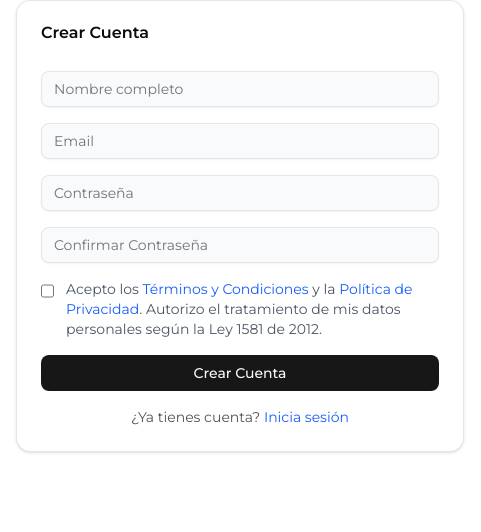
Scenario: RegisterPage › should handle registration error
// Fill out and submit the form
Type "Test User" into the field with placeholder "Nombre completo" at [240, 89], box [41,71,439,107]
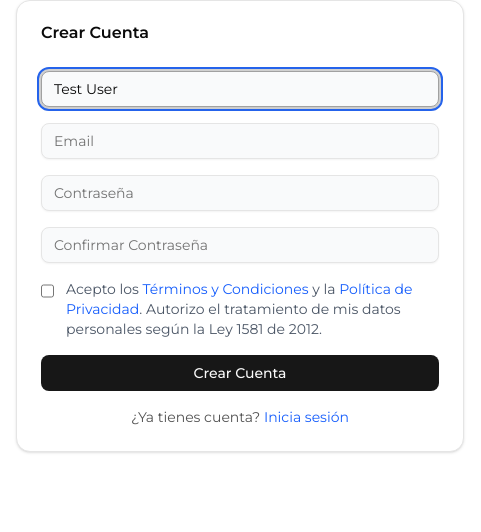
Type "test@example.com" into the field with placeholder "Email" at [240, 141], box [41,123,439,159]
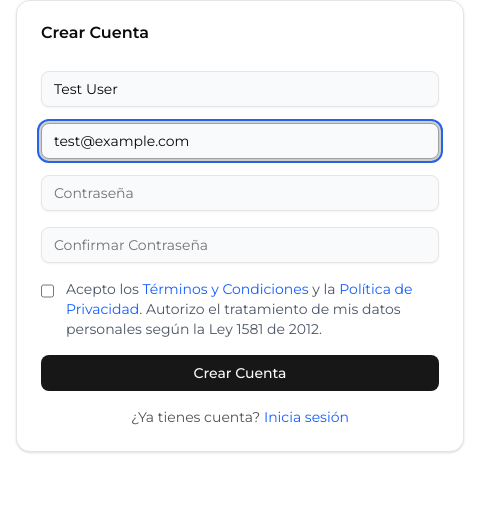
Type "password123" into the password field with placeholder "Contraseña" at [240, 193], box [41,175,439,211]
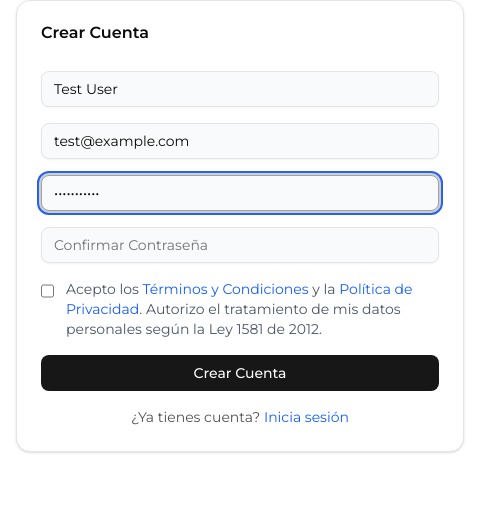
Type "password123" into the password field with placeholder "Confirmar Contraseña" at [240, 245], box [41,227,439,263]
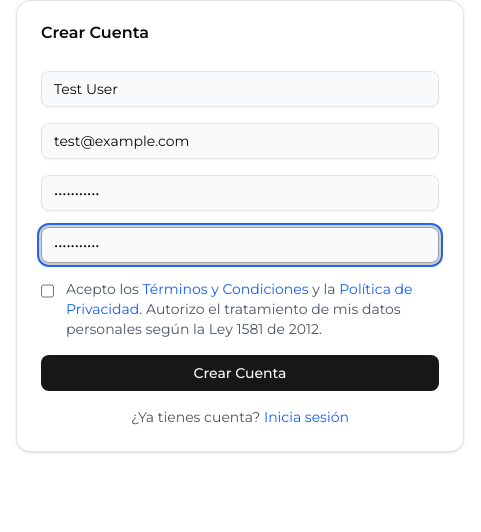
Click the checkbox labelled "Acepto los Términos" at [48, 291], box [41,283,54,299]
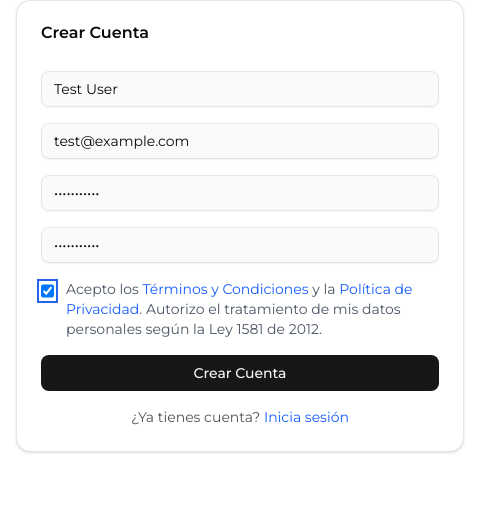
Click the button "Crear Cuenta" at [240, 373], box [41,355,439,391]
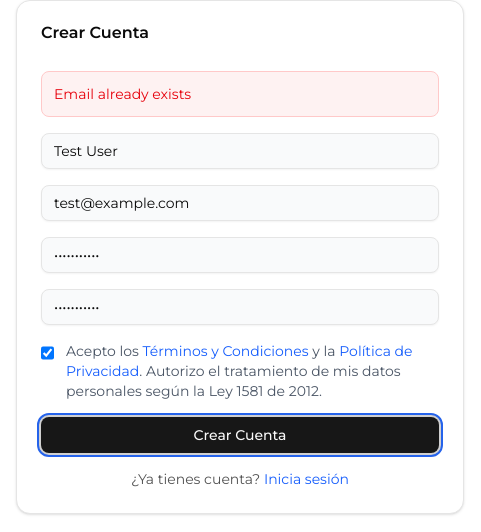
Expected: the text "Email already exists" is shown, [41,71,439,117]
